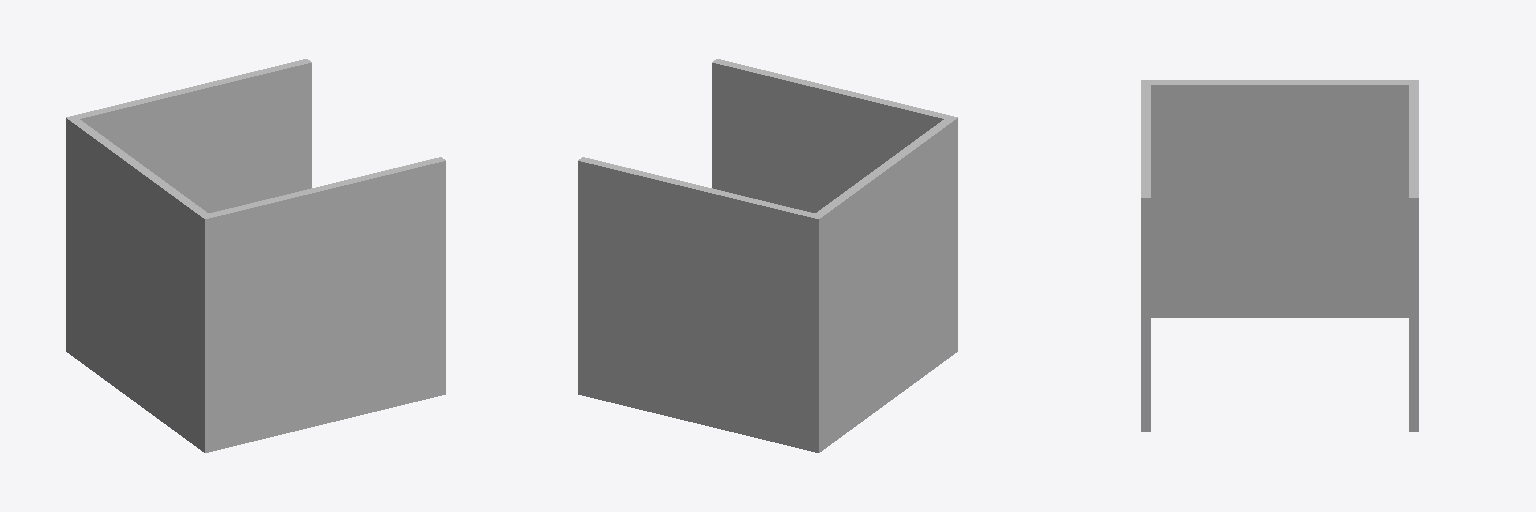
The model's file is Room_W_01_S.obj.
The picture shows the model from 3 angles: view 1: azimuth 30°, elevation 25°; view 2: azimuth 150°, elevation 25°; view 3: azimuth 270°, elevation 25°; orthographic projection.
Parts seen in each view (by area): view 1: Room_W_01_S; view 2: Room_W_01_S; view 3: Room_W_01_S.
Part boxes in pixels (x1,y1,x2,y2): Room_W_01_S: (66,59,445,452); Room_W_01_S: (578,59,957,452); Room_W_01_S: (1141,80,1418,431).
Size of the model in its own units: 2.7 by 2.5 by 2.7.